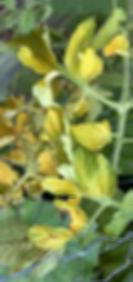Tomato leaf yellow virus: (0, 206, 94, 282), (72, 133, 119, 202), (102, 181, 133, 252), (65, 44, 105, 88)
